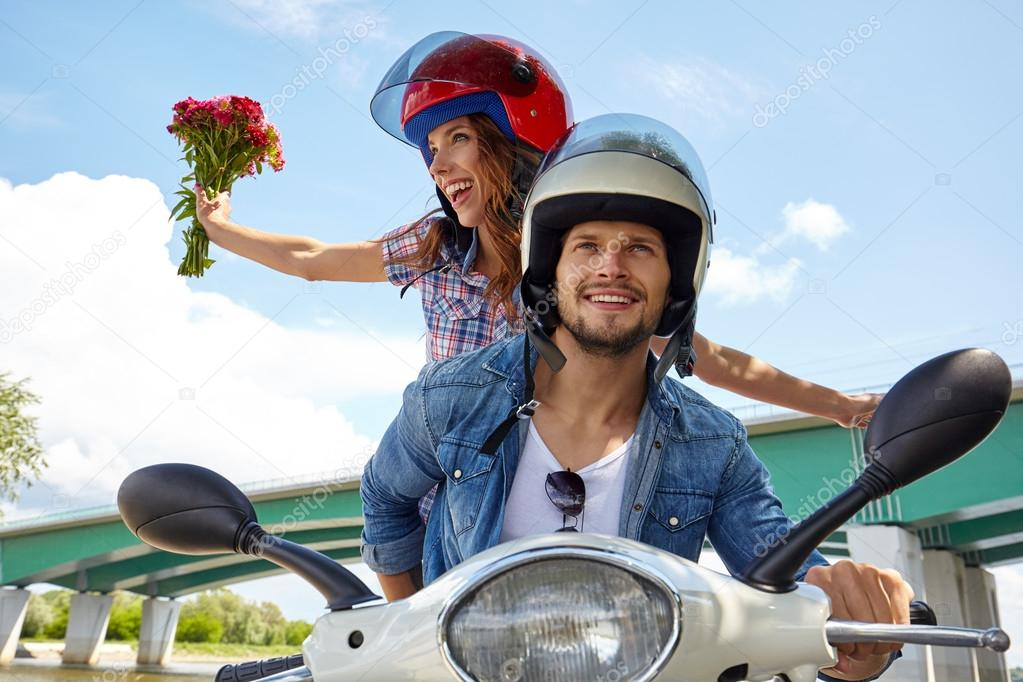helmet: (519, 121, 744, 323), (408, 38, 566, 145)
